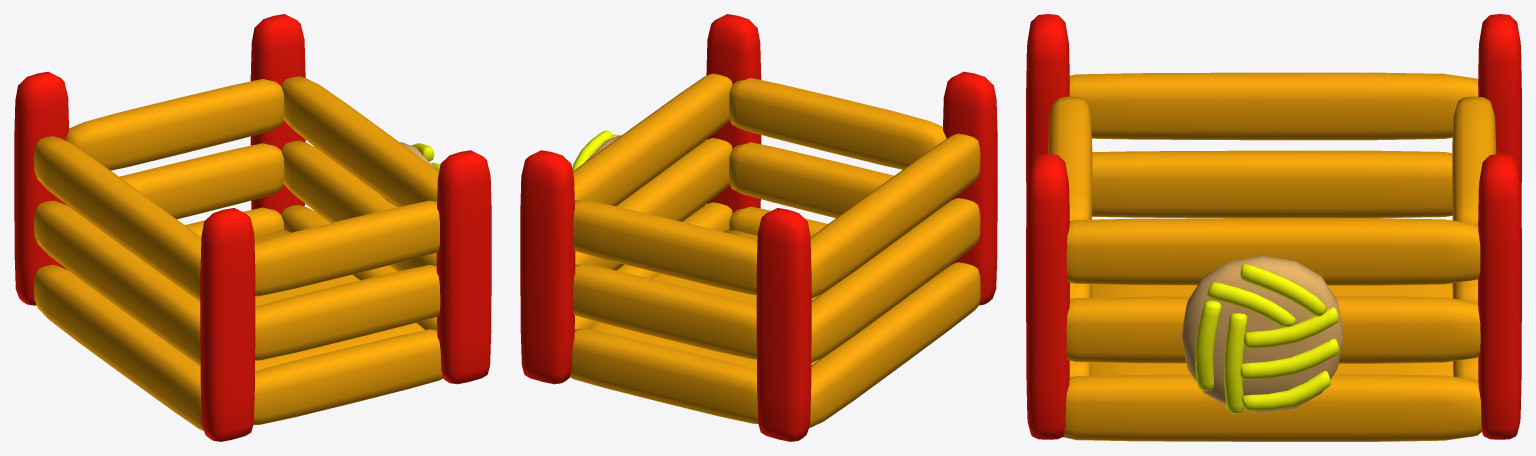
Rendered from Caisse3.fbx.
3 renders of one model, left to right at view 1: azimuth 30°, elevation 25°; view 2: azimuth 150°, elevation 25°; view 3: azimuth 270°, elevation 25°, orthographic. The views are drawn at different scales.
Parts seen in each view (by area): view 1: Cube.025; view 2: Cube.025; view 3: Cube.025.
Boxes of the visible parts, box(x1,y1,x2,y2) form: Cube.025: box(14, 14, 491, 441); Cube.025: box(520, 14, 997, 441); Cube.025: box(1026, 14, 1521, 441).
Bounding box in the file's own units: 85.21 × 57.58 × 93.77.
